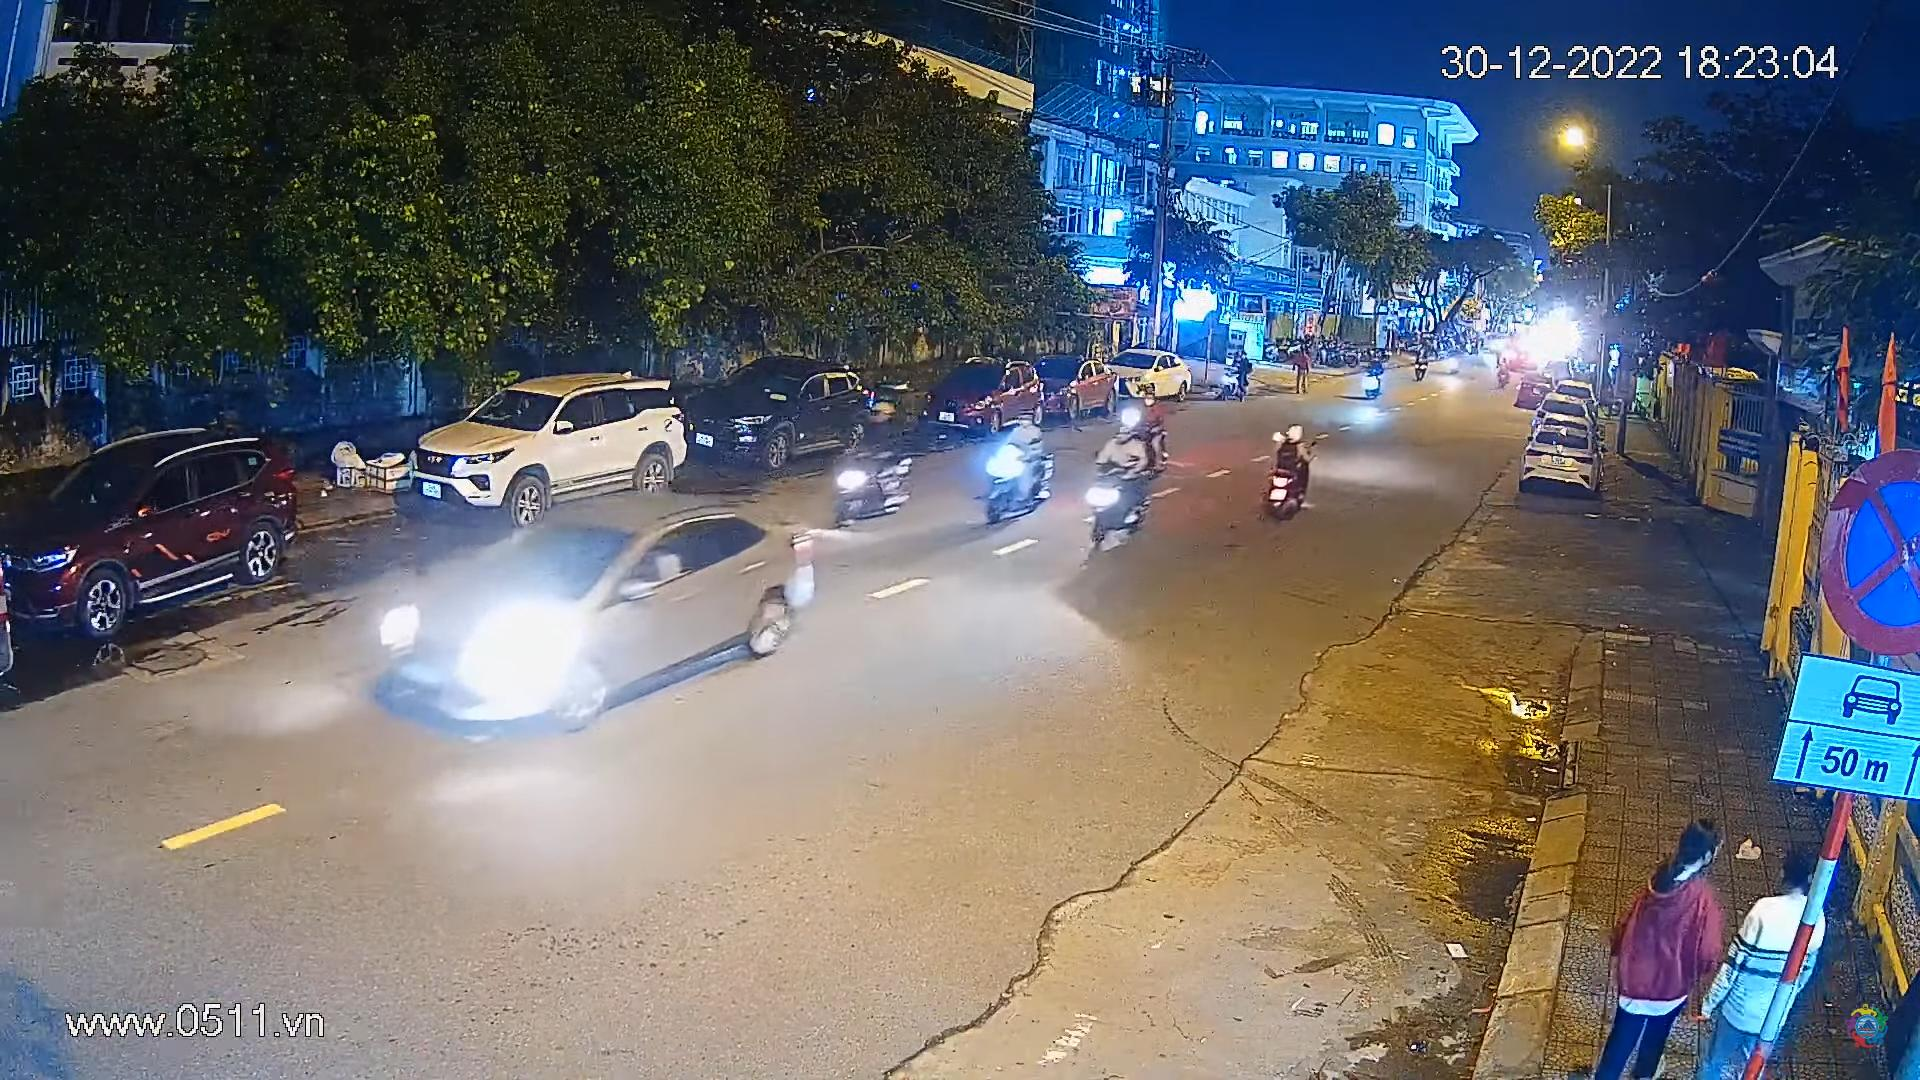car: (369, 481, 831, 750), (0, 421, 301, 645), (400, 356, 691, 527), (683, 347, 885, 484), (910, 355, 1052, 444), (1097, 340, 1201, 406), (1523, 422, 1601, 502), (1035, 351, 1126, 419), (1535, 386, 1592, 436), (1514, 364, 1555, 419), (1565, 378, 1597, 415)
motorcycle: (1081, 405, 1182, 553), (827, 400, 926, 529), (971, 406, 1062, 533), (1263, 419, 1324, 521), (1360, 347, 1394, 411)
